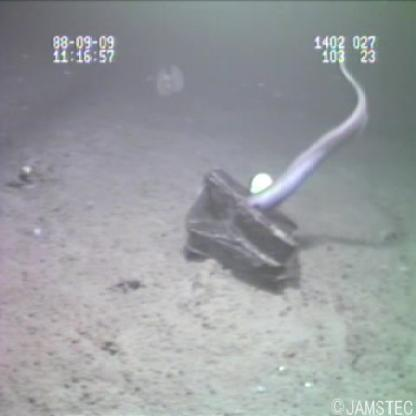Bio: (239, 39, 374, 220)
Rác: (180, 163, 304, 292)
